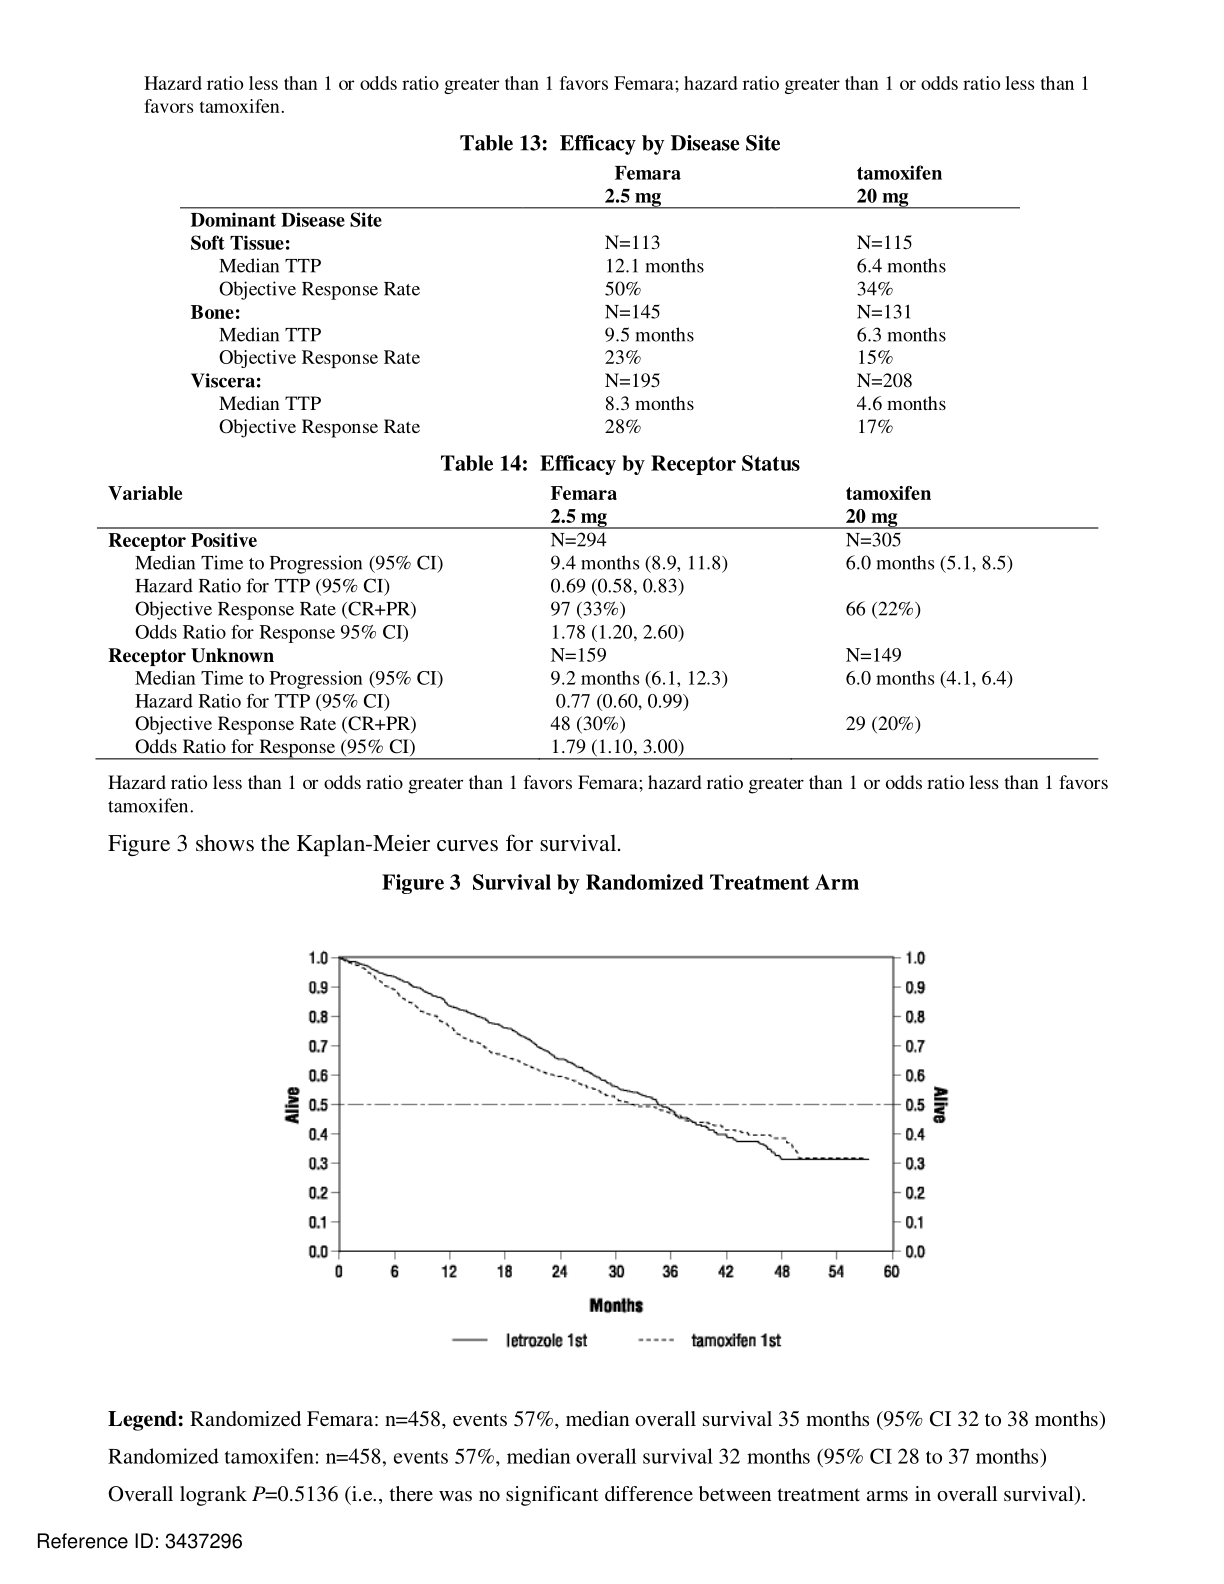partial_lined: (96, 480, 1103, 762), (179, 162, 1021, 436)
